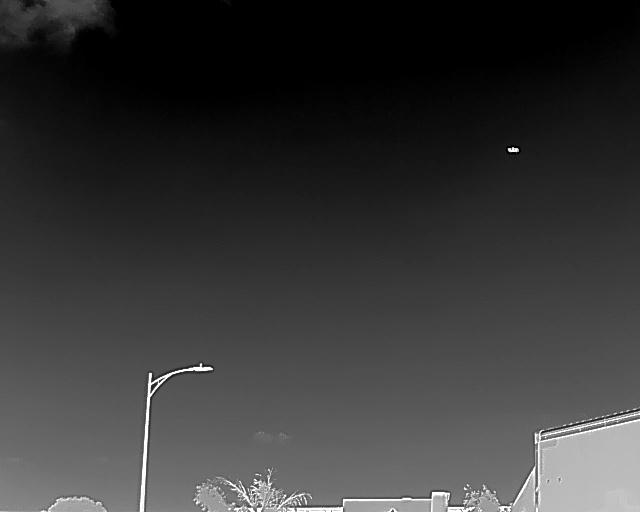fpv-drone: (506, 146, 519, 153)
